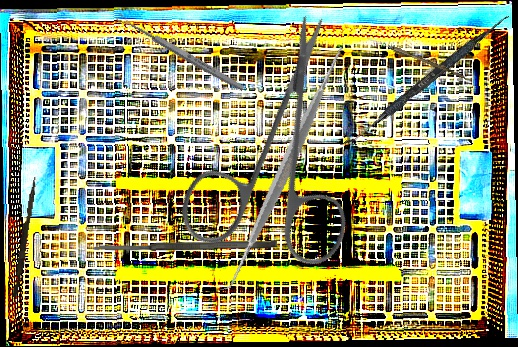Iris Scissors: (123, 9, 431, 314)
Pusher: (12, 176, 37, 298)
Spatula Surgical: (164, 43, 406, 292), (342, 9, 511, 153), (92, 239, 278, 253)
Surgical Spoon: (115, 12, 246, 93), (365, 36, 467, 79)
